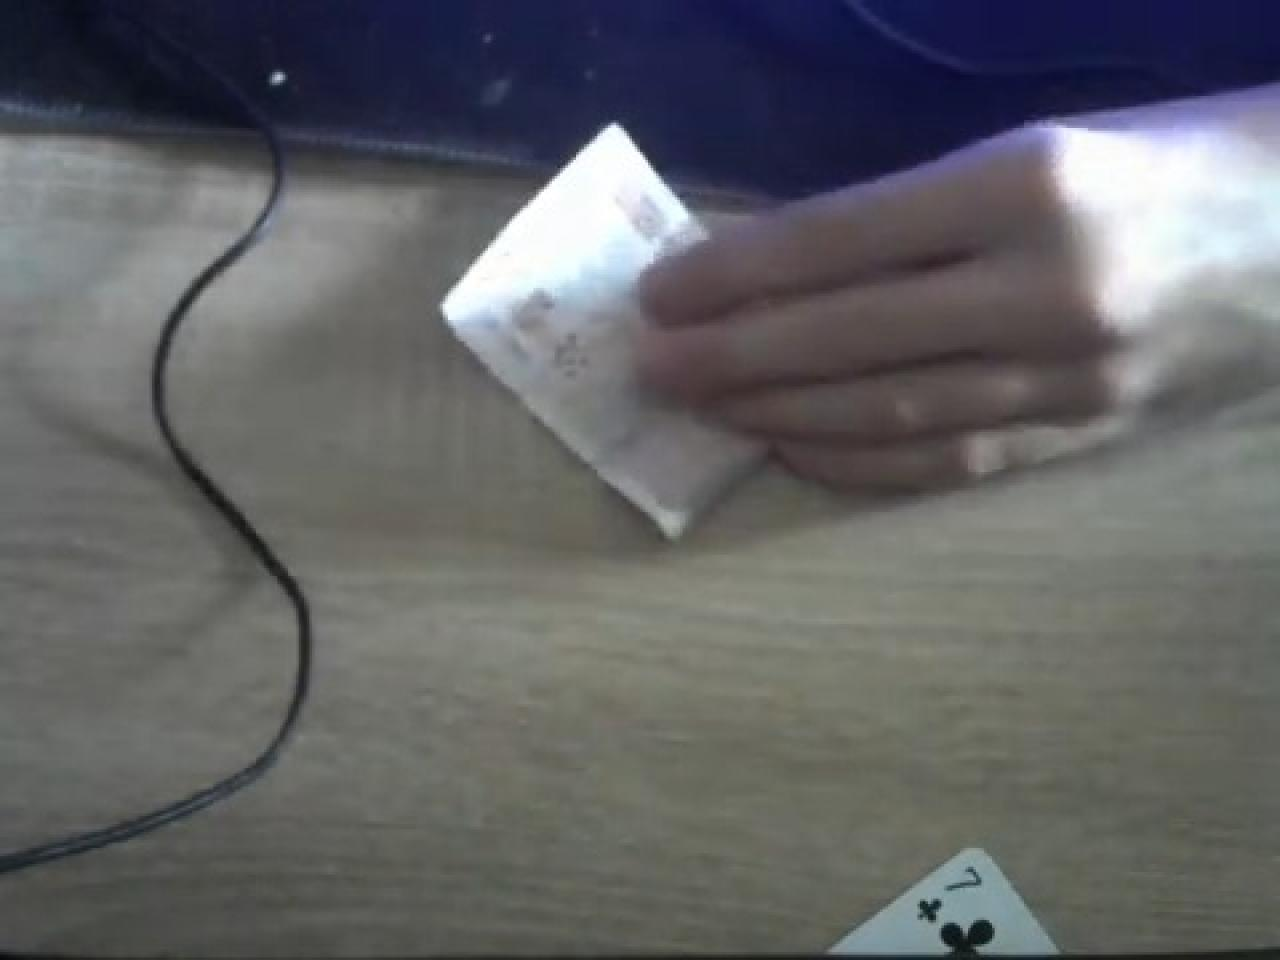5leva: (437, 125, 765, 544)
